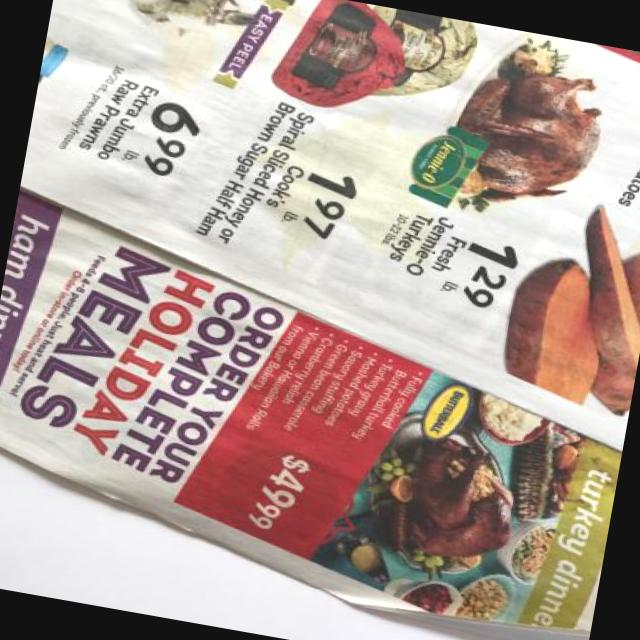bottle: (40, 39, 66, 76)
